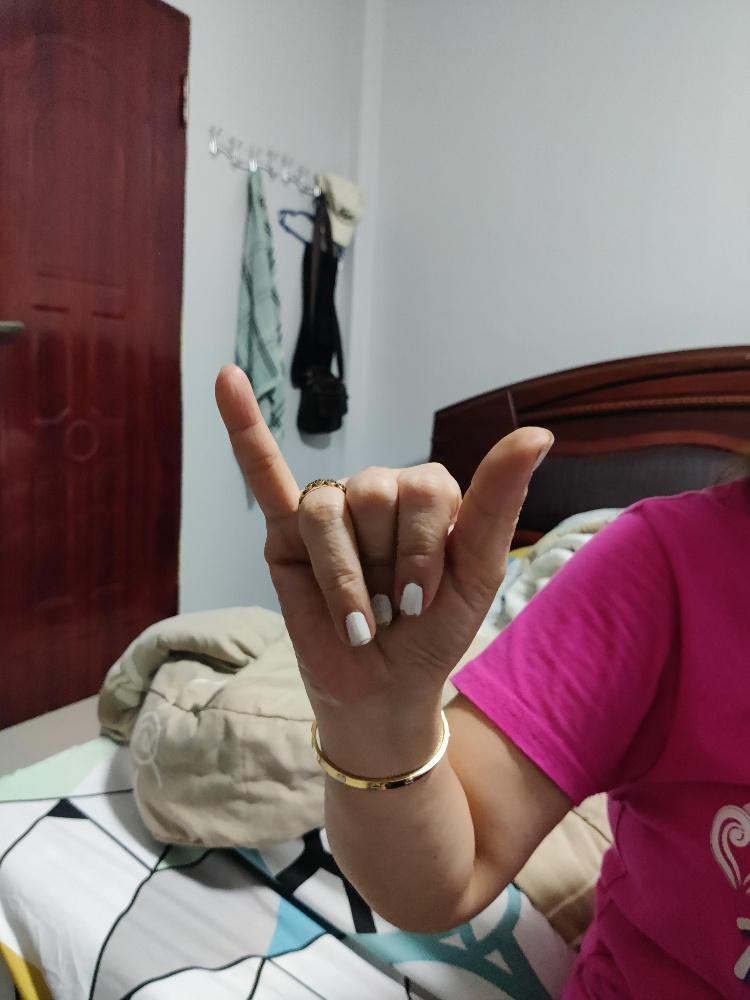y: (211, 359, 556, 716)
